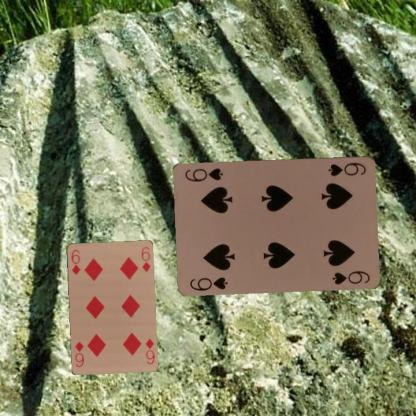6d: (143, 336, 156, 365), (69, 246, 81, 276)
6s: (187, 274, 229, 292), (326, 160, 367, 178)
